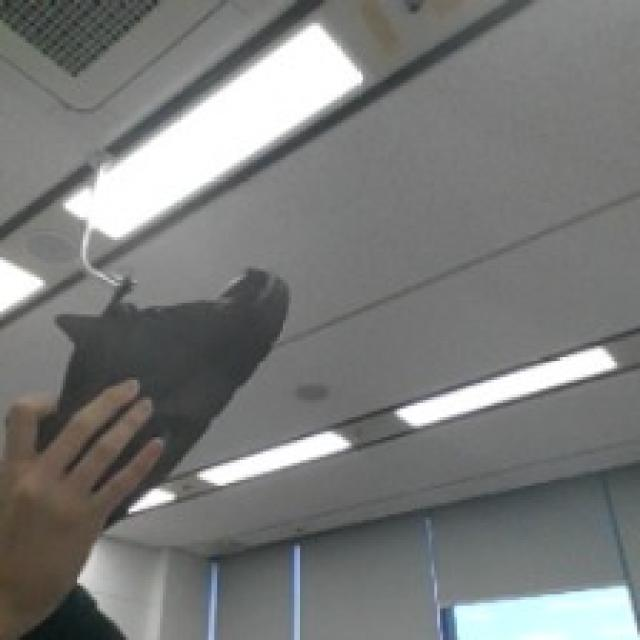shoe: (37, 171, 296, 467)
